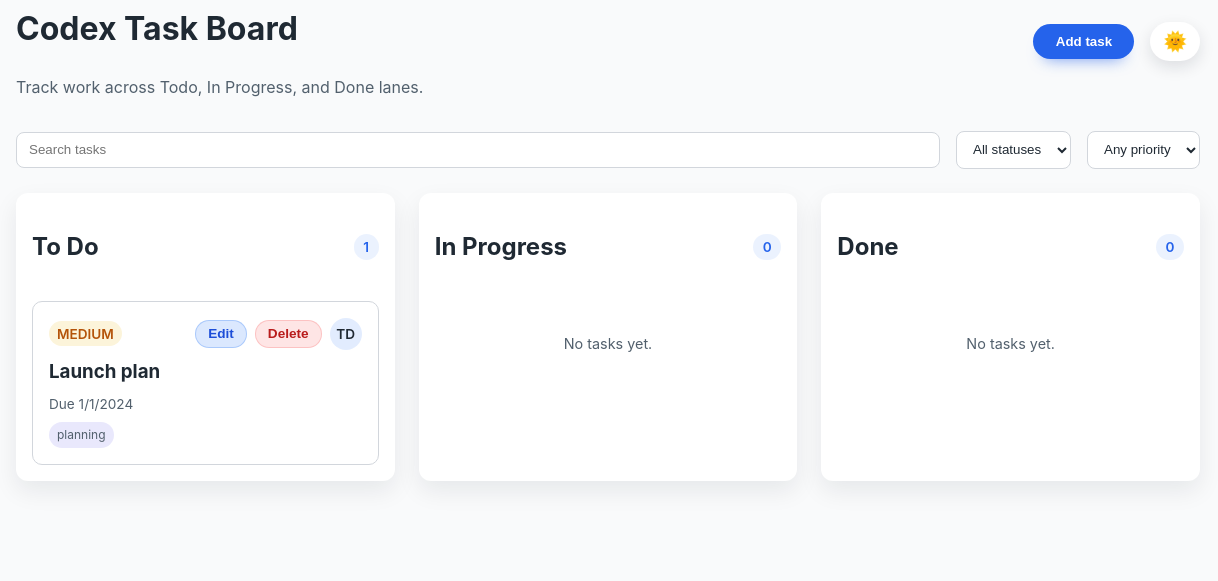
it: App › shows an error message when deleting a task fails
The image size is (1218, 581).
Click the button "Delete".
click(288, 334)  # box top-left (255, 320), bottom-right (322, 348)
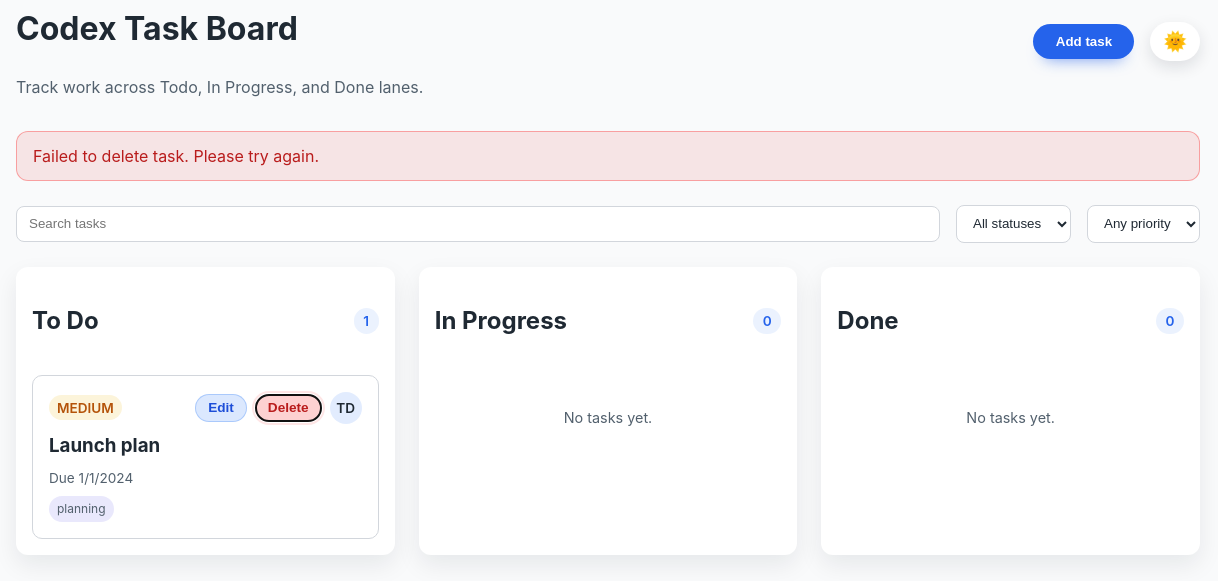
Expected: the message reads "Failed to delete task. Please try again.", top-left (33, 146), bottom-right (319, 166)
